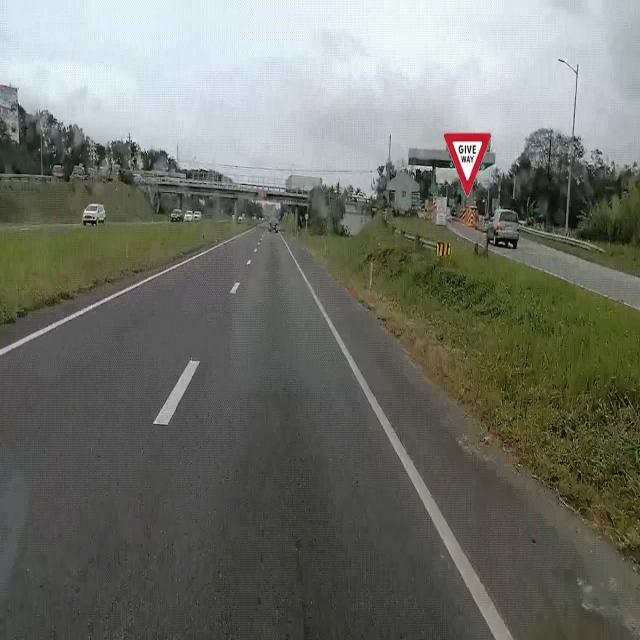Ceder-le-Passage: (441, 121, 500, 202)
